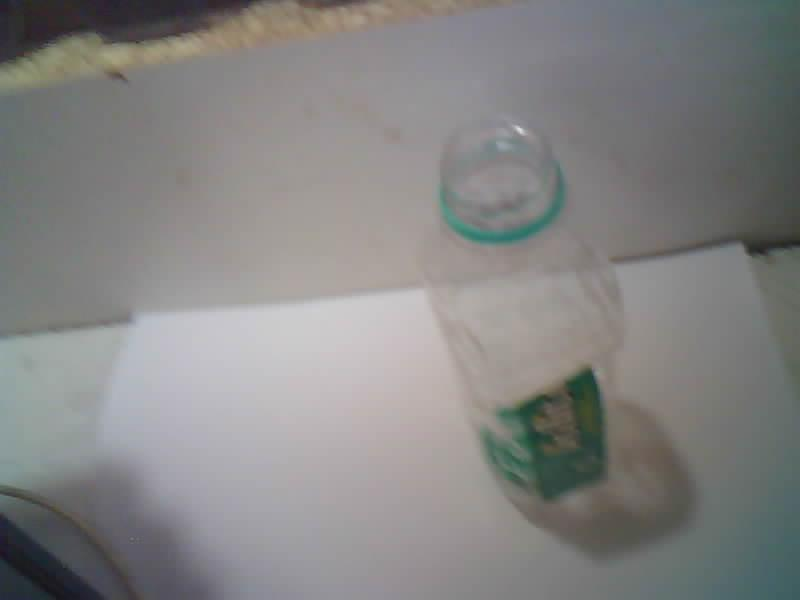non-biodegradable: (421, 119, 686, 549)
